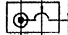Single Phase Tap-Off Unit: (2, 0, 62, 35)
